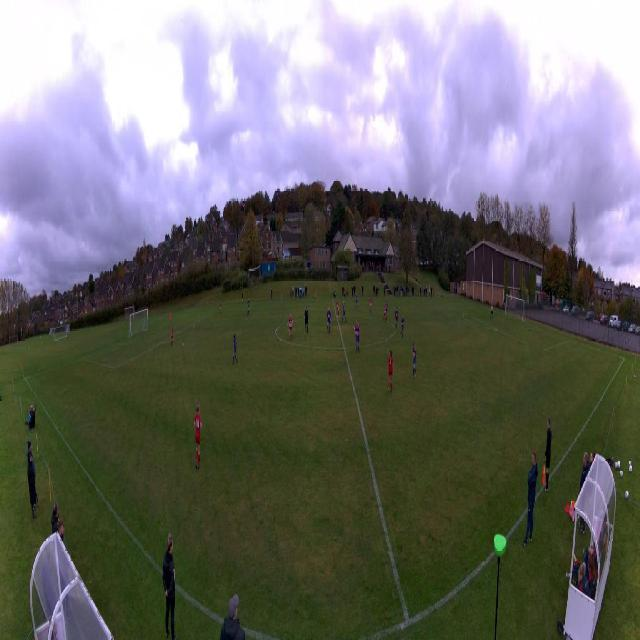ball: (183, 342, 184, 347)
player: (194, 405, 203, 467), (388, 348, 394, 396), (353, 321, 360, 352), (232, 333, 238, 365), (412, 342, 417, 379), (287, 313, 293, 340), (304, 307, 309, 333), (327, 307, 332, 333), (400, 314, 405, 338), (342, 302, 347, 323), (170, 325, 174, 347), (394, 307, 398, 329), (369, 296, 373, 315), (336, 300, 340, 317), (355, 293, 359, 309), (383, 303, 386, 323), (385, 301, 388, 321), (247, 297, 250, 315), (313, 289, 317, 301), (490, 304, 493, 320), (169, 311, 172, 326), (220, 301, 222, 316)
